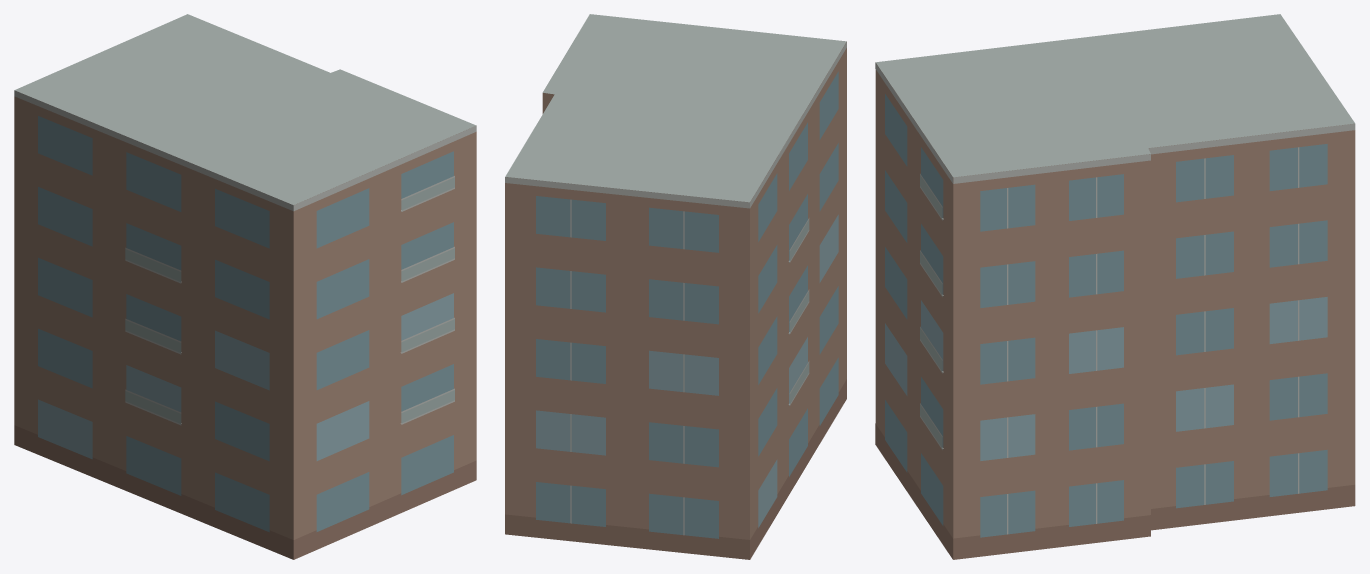
File: survey-upis-32702109.glb
The picture shows the model from 3 angles, left to right: view 1: azimuth 30°, elevation 25°; view 2: azimuth 150°, elevation 25°; view 3: azimuth 270°, elevation 25°; orthographic projection. The views are drawn at different scales.
Visible parts, largest first — view 1: survey-upis-32702109.tmp; view 2: survey-upis-32702109.tmp; view 3: survey-upis-32702109.tmp.
Part boxes in pixels (x1,y1,x2,y2): survey-upis-32702109.tmp: [14, 14, 476, 559]; survey-upis-32702109.tmp: [505, 14, 846, 559]; survey-upis-32702109.tmp: [875, 14, 1355, 559].
Bounding box in the file's own units: 13.02 × 14.2 × 16.16.
